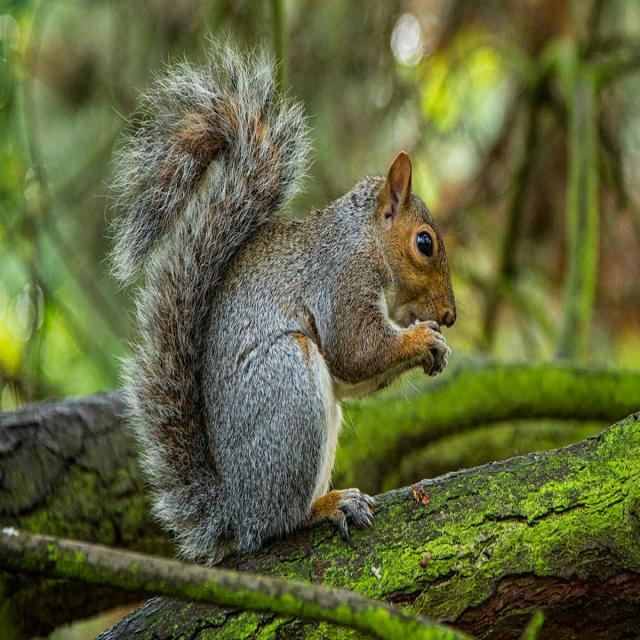squirrel: (110, 41, 457, 564)
